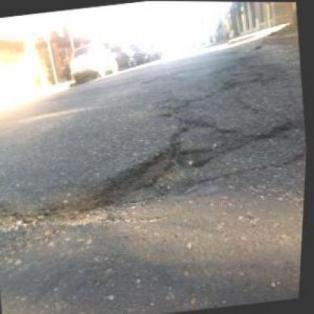Hueco: (50, 136, 216, 230), (0, 204, 49, 235)
